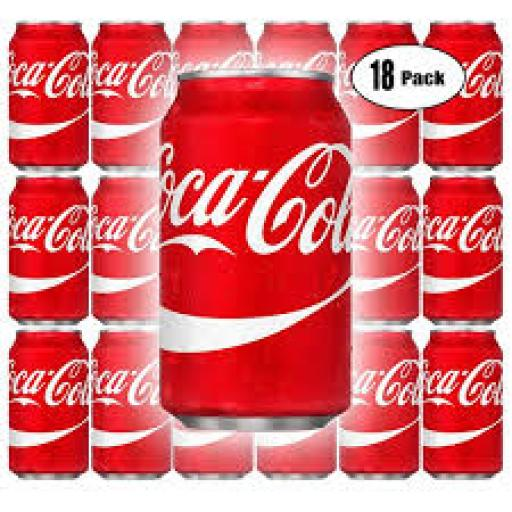Coca: (154, 58, 357, 433), (2, 10, 92, 178), (2, 326, 94, 484), (172, 12, 254, 189), (4, 176, 92, 326), (92, 323, 172, 486), (92, 172, 178, 322), (422, 328, 504, 483), (262, 10, 338, 177), (94, 18, 174, 175), (342, 322, 420, 483), (338, 172, 420, 325), (344, 12, 424, 164), (428, 12, 504, 172), (422, 173, 504, 321)
